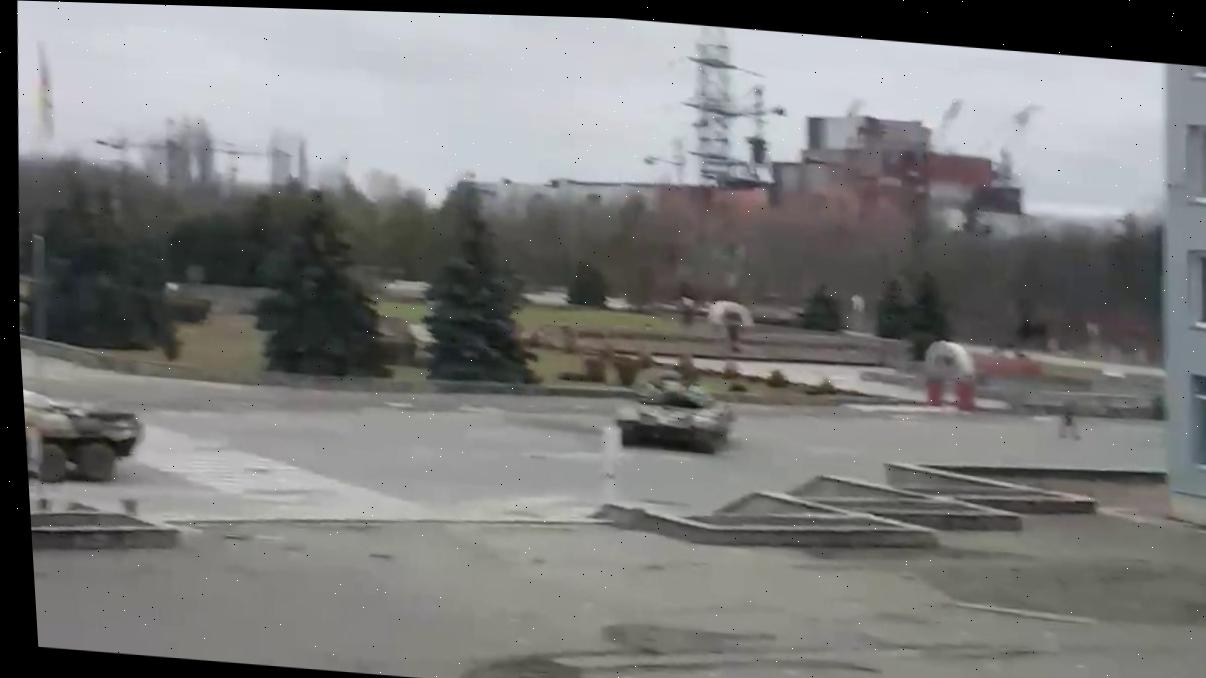tank: (22, 379, 151, 496), (610, 369, 739, 456)
